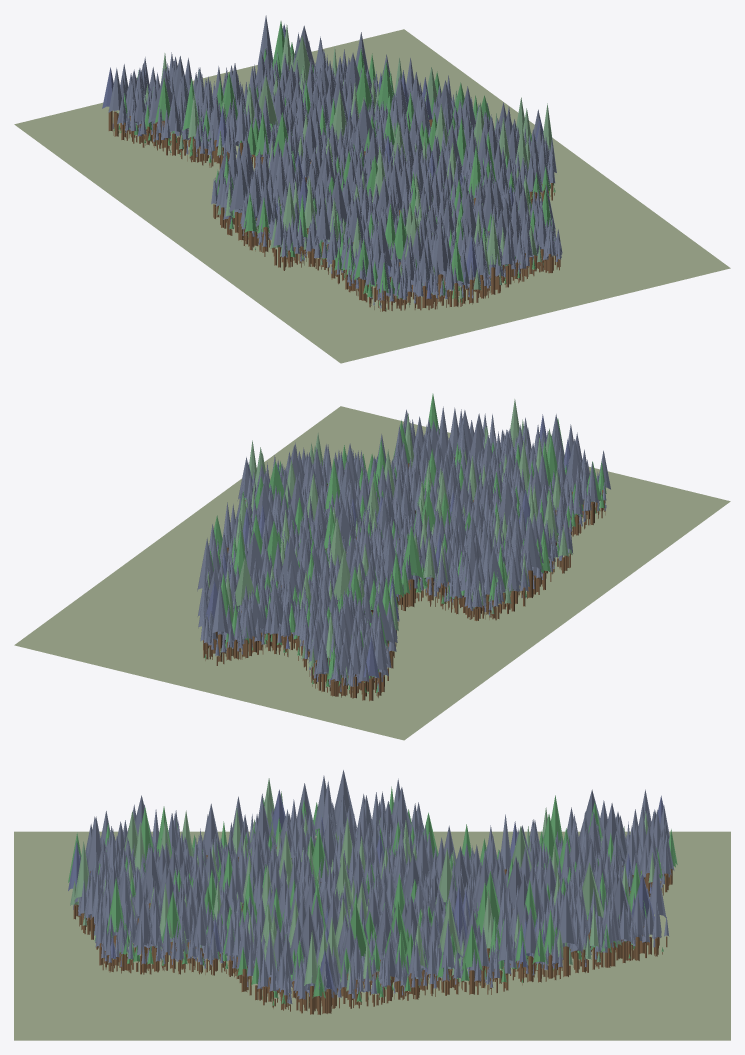
The picture shows the model from 3 angles, top to bottom: view 1: azimuth 30°, elevation 25°; view 2: azimuth 150°, elevation 25°; view 3: azimuth 270°, elevation 25°; orthographic projection. The views are drawn at different scales.
Visible parts, largest first — view 1: ground, tree:MKRF_684-000047, tree:MKRF_684-002910; view 2: ground, tree:MKRF_684-003665, tree:MKRF_684-000047, tree:MKRF_684-002347; view 3: ground, tree:MKRF_684-002691, tree:MKRF_684-000905, tree:MKRF_684-003666, tree:MKRF_684-004349, tree:MKRF_684-002286, tree:MKRF_684-004235, tree:MKRF_684-003505, tree:MKRF_684-004272, tree:MKRF_684-001321, tree:MKRF_684-002665, tree:MKRF_684-004405 (+13 smaller).
Part boxes in pixels (x1=…): ground: x1=14, y1=29, x2=730, y2=363; tree:MKRF_684-000047: x1=229, y1=160, x2=248, y2=240; tree:MKRF_684-002910: x1=432, y1=221, x2=448, y2=301; ground: x1=14, y1=406, x2=730, y2=740; tree:MKRF_684-003665: x1=400, y1=526, x2=423, y2=607; tree:MKRF_684-000047: x1=520, y1=518, x2=542, y2=597; tree:MKRF_684-002347: x1=211, y1=581, x2=228, y2=661; ground: x1=14, y1=831, x2=730, y2=1040; tree:MKRF_684-002691: x1=556, y1=888, x2=577, y2=976; tree:MKRF_684-000905: x1=582, y1=862, x2=603, y2=950; tree:MKRF_684-003666: x1=133, y1=896, x2=154, y2=972; tree:MKRF_684-004349: x1=461, y1=924, x2=482, y2=994; tree:MKRF_684-002286: x1=304, y1=930, x2=320, y2=1014; tree:MKRF_684-004235: x1=107, y1=877, x2=124, y2=965; tree:MKRF_684-003505: x1=523, y1=907, x2=539, y2=981; tree:MKRF_684-004272: x1=162, y1=890, x2=184, y2=968; tree:MKRF_684-001321: x1=142, y1=845, x2=160, y2=908; tree:MKRF_684-002665: x1=350, y1=903, x2=372, y2=961; tree:MKRF_684-004405: x1=438, y1=897, x2=461, y2=969.
Size of the model in its own units: 331 by 66.1 by 480.
